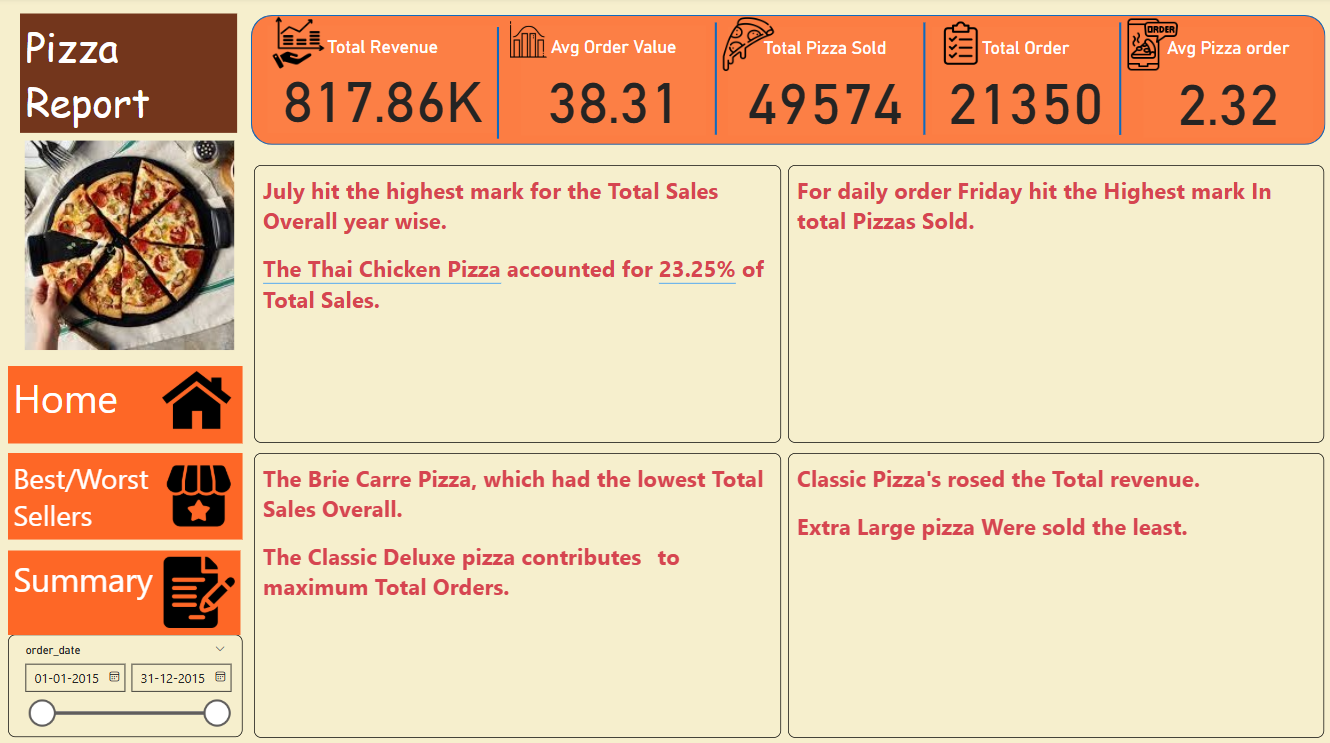

This screenshot's page, from the dashboard's own definition file:
{"tool":"powerbi","page":{"name":"summary","canvas":[1280,720],"ordinal":2},"visuals":[{"type":"textbox","box":[753.3,160,511.7,265],"z":0},{"type":"textbox","box":[8.7,528.3,221.7,80.4],"z":0,"group":"g3"},{"type":"image","box":[8.3,131.7,231.7,210],"z":1000},{"type":"textbox","box":[8.7,434.8,223.9,82.6],"z":1000,"group":"g2"},{"type":"shape","box":[240,17.1,1025.7,124.3],"z":2000},{"type":"textbox","box":[8.7,352.2,223.9,73.9],"z":2000,"group":"g1"},{"type":"textbox","box":[20,15.7,207.1,114.3],"z":3000},{"type":"card","title":"Total Revenue","fields":{"Values":["Measure.Total Sales"]},"box":[255.7,27.1,220,102.9],"z":4000},{"type":"card","title":"Avg Order Value","fields":{"Values":["Measure.Average Order Value"]},"box":[498.3,26.7,176.7,105],"z":5000},{"type":"card","title":"Total Pizza Sold","fields":{"Values":["Measure.Total Pizzas Sold"]},"box":[696.7,28.3,185,103.3],"z":6000},{"type":"card","title":"Total Order","fields":{"Values":["Measure.Total Orders"]},"box":[891.4,28.6,178.6,102.9],"z":7000},{"type":"card","title":"Avg Pizza order","fields":{"Values":["Measure.avg order per pizza"]},"box":[1093.3,28.3,161.7,105],"z":8000},{"type":"shape","box":[423.3,28.3,105,106.7],"z":9000},{"type":"shape","box":[631.4,24.3,105.7,107.1],"z":10000},{"type":"shape","box":[831.4,24.3,105.7,107.1],"z":11000},{"type":"shape","box":[1016.6,24.4,107.4,107.4],"z":12000},{"type":"image","box":[255,8.3,61.7,70],"z":13000},{"type":"image","box":[685,10,61.7,70],"z":14000},{"type":"image","box":[891.7,10,51.7,68.3],"z":15000},{"type":"image","box":[1070,15,63.3,61.7],"z":16000},{"type":"image","box":[483.3,16.7,45,46.7],"z":17000},{"type":"slicer","fields":{"Values":["pizza_sales.order_date"]},"box":[8.7,608.7,223.9,97.8],"z":18000},{"type":"group","id":"g1","title":"Group 1","box":[8.7,343.5,223.9,82.6],"z":19000},{"type":"group","id":"g2","title":"Group 2","box":[8.7,434.8,223.9,82.6],"z":20000},{"type":"group","id":"g3","title":"Group 3","box":[8.7,528.3,221.7,80.4],"z":21000},{"type":"textbox","box":[243.3,160,503.3,265],"z":22000},{"type":"textbox","box":[243.3,435,503.3,271.7],"z":23000},{"type":"textbox","box":[753,435,512,272],"z":24000},{"type":"image","box":[150,343.5,76.1,82.6],"z":26000,"group":"g1"},{"type":"image","box":[150,434.8,80.4,82.6],"z":27000,"group":"g2"},{"type":"image","box":[152.2,528.3,78.3,80.4],"z":28000,"group":"g3"}]}

Visuals, with their boxes in screenshot pixels (x1, y1, x2, y2), scaled from the page's 1280x720 canvas onto the 1330x743 screenshot:
textbox: {"x1": 783, "y1": 165, "x2": 1314, "y2": 439}
textbox: {"x1": 9, "y1": 545, "x2": 239, "y2": 628}
image: {"x1": 9, "y1": 136, "x2": 249, "y2": 353}
textbox: {"x1": 9, "y1": 449, "x2": 242, "y2": 534}
shape: {"x1": 249, "y1": 18, "x2": 1315, "y2": 146}
textbox: {"x1": 9, "y1": 363, "x2": 242, "y2": 440}
textbox: {"x1": 21, "y1": 16, "x2": 236, "y2": 134}
"Total Revenue" card: {"x1": 266, "y1": 28, "x2": 494, "y2": 134}
"Avg Order Value" card: {"x1": 518, "y1": 28, "x2": 701, "y2": 136}
"Total Pizza Sold" card: {"x1": 724, "y1": 29, "x2": 916, "y2": 136}
"Total Order" card: {"x1": 926, "y1": 30, "x2": 1112, "y2": 136}
"Avg Pizza order" card: {"x1": 1136, "y1": 29, "x2": 1304, "y2": 138}
shape: {"x1": 440, "y1": 29, "x2": 549, "y2": 139}
shape: {"x1": 656, "y1": 25, "x2": 766, "y2": 136}
shape: {"x1": 864, "y1": 25, "x2": 974, "y2": 136}
shape: {"x1": 1056, "y1": 25, "x2": 1168, "y2": 136}
image: {"x1": 265, "y1": 9, "x2": 329, "y2": 81}
image: {"x1": 712, "y1": 10, "x2": 776, "y2": 83}
image: {"x1": 927, "y1": 10, "x2": 980, "y2": 81}
image: {"x1": 1112, "y1": 15, "x2": 1178, "y2": 79}
image: {"x1": 502, "y1": 17, "x2": 549, "y2": 65}
slicer - pizza_sales.order_date: {"x1": 9, "y1": 628, "x2": 242, "y2": 729}
"Group 1" group: {"x1": 9, "y1": 354, "x2": 242, "y2": 440}
"Group 2" group: {"x1": 9, "y1": 449, "x2": 242, "y2": 534}
"Group 3" group: {"x1": 9, "y1": 545, "x2": 239, "y2": 628}
textbox: {"x1": 253, "y1": 165, "x2": 776, "y2": 439}
textbox: {"x1": 253, "y1": 449, "x2": 776, "y2": 729}
textbox: {"x1": 782, "y1": 449, "x2": 1314, "y2": 730}
image: {"x1": 156, "y1": 354, "x2": 235, "y2": 440}
image: {"x1": 156, "y1": 449, "x2": 239, "y2": 534}
image: {"x1": 158, "y1": 545, "x2": 240, "y2": 628}
